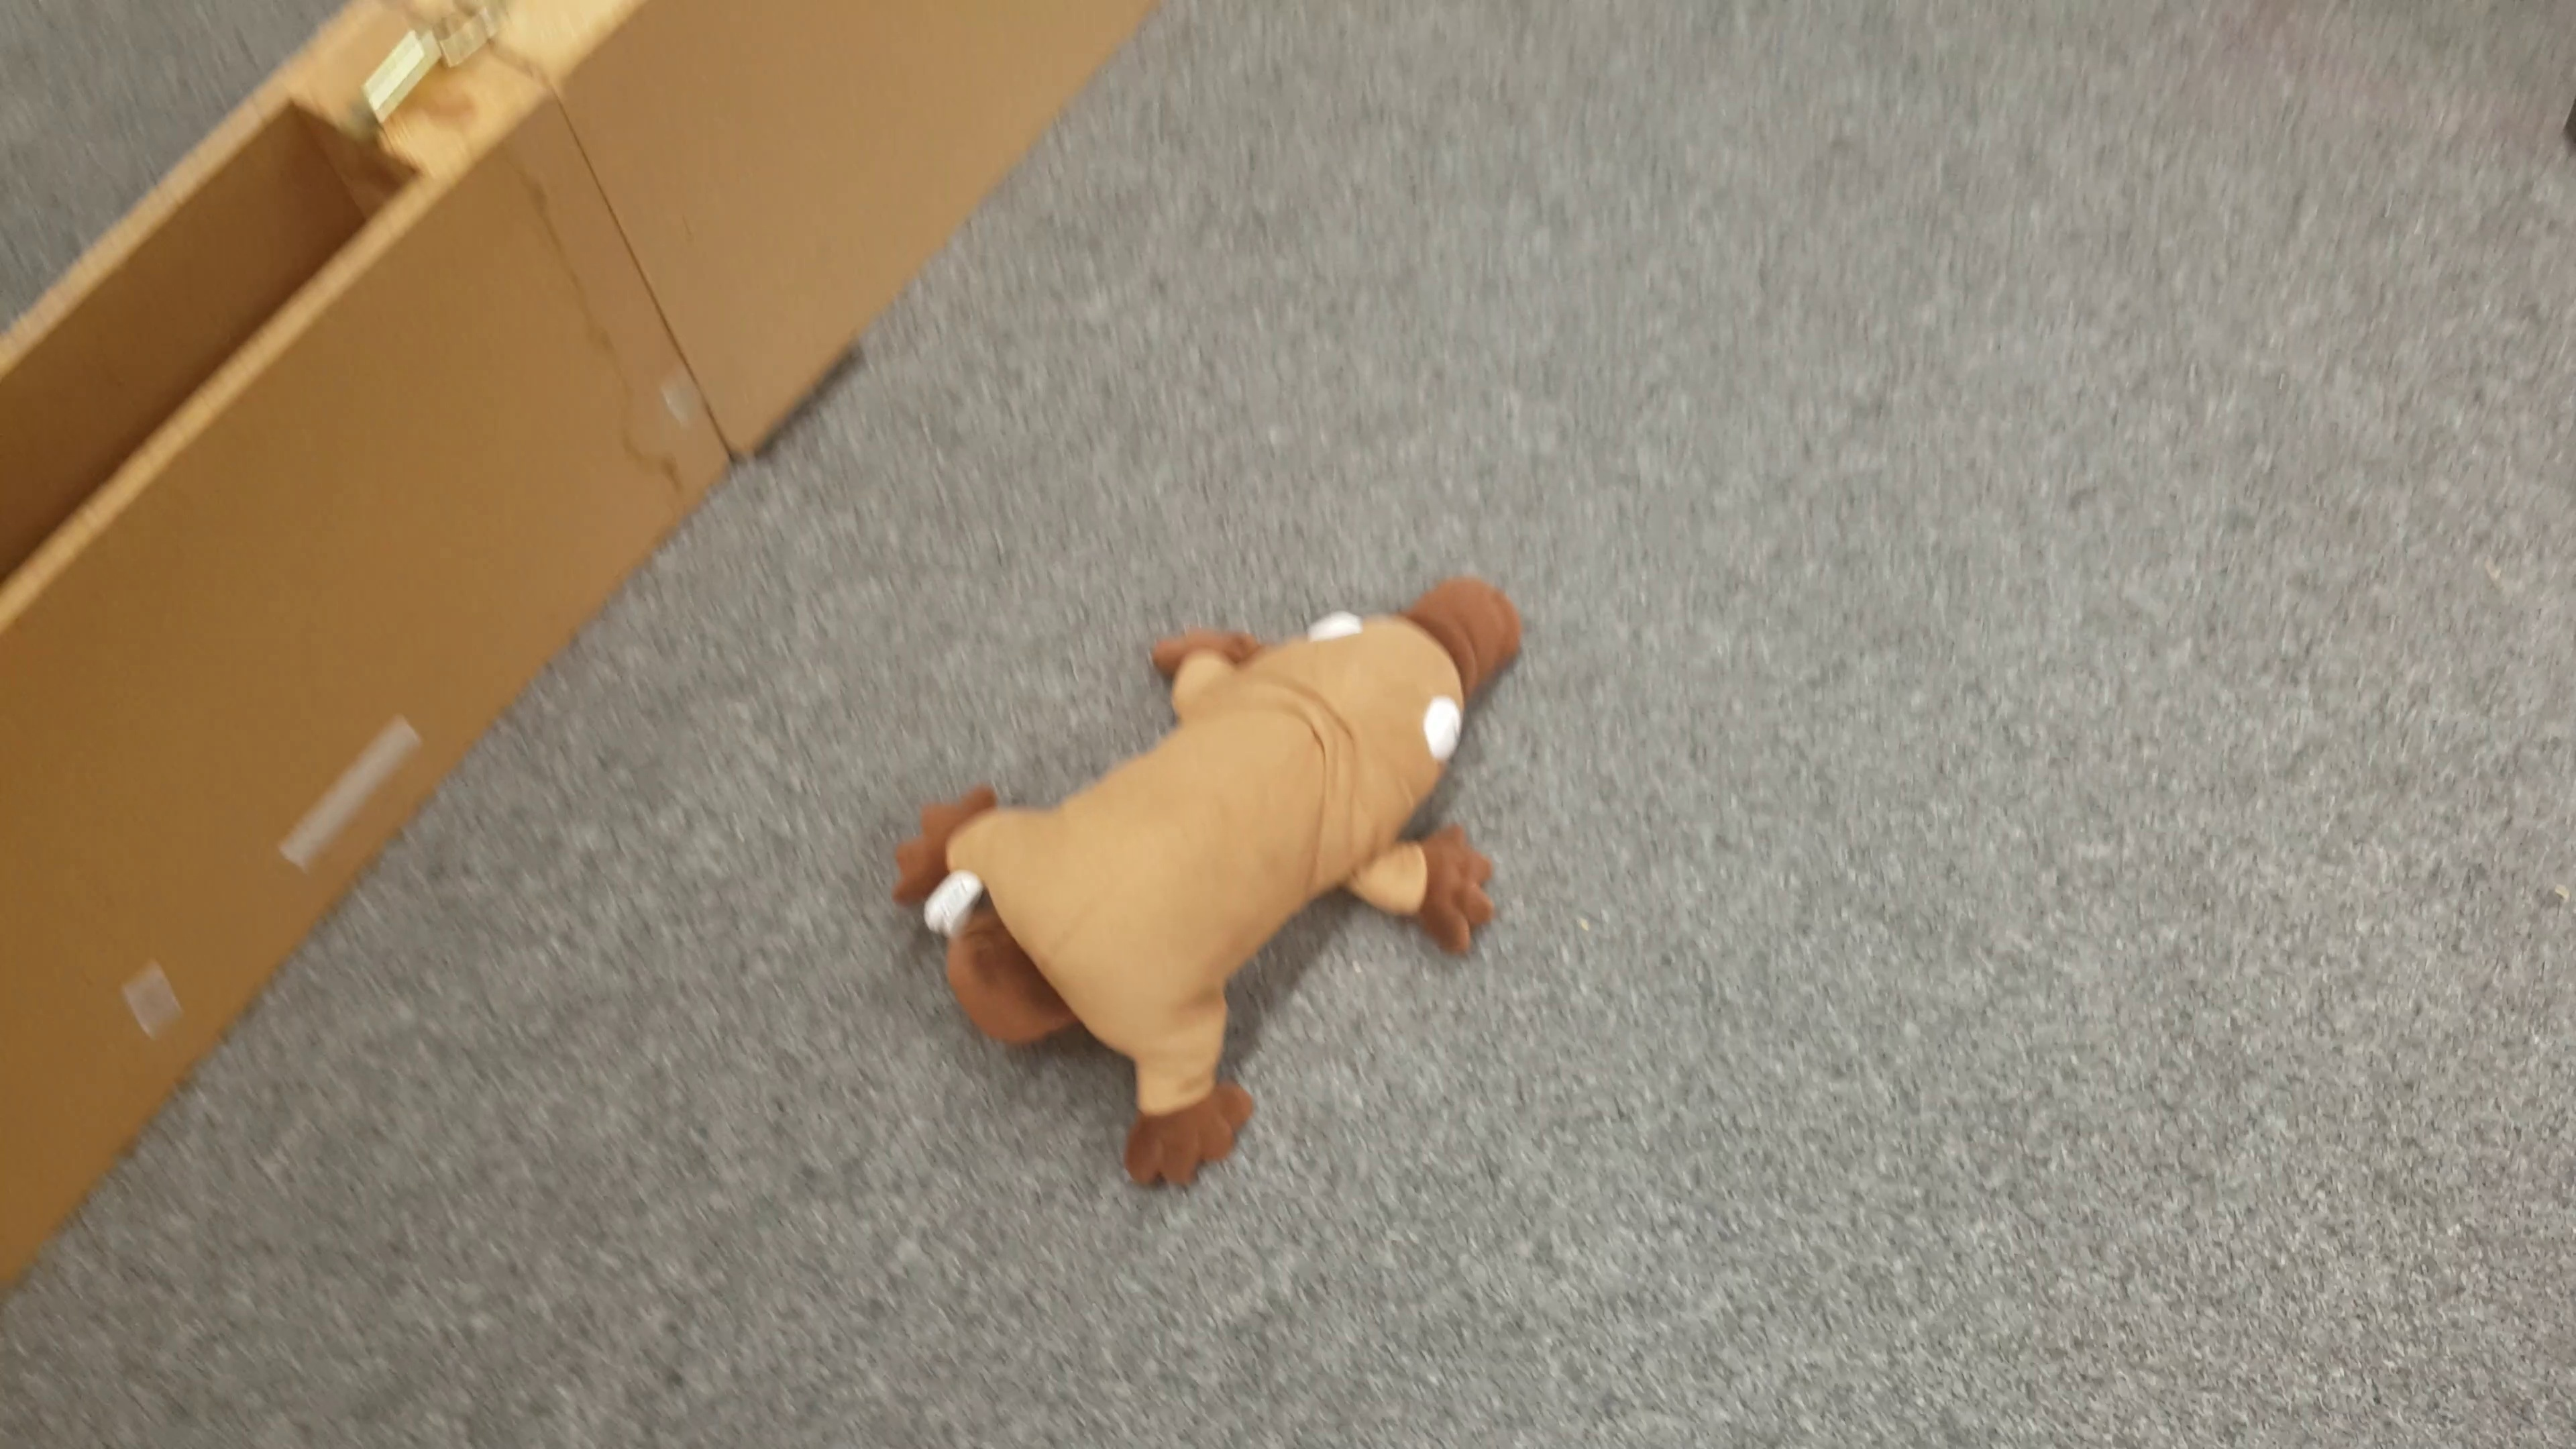grasp: (892, 575, 1543, 1192)
